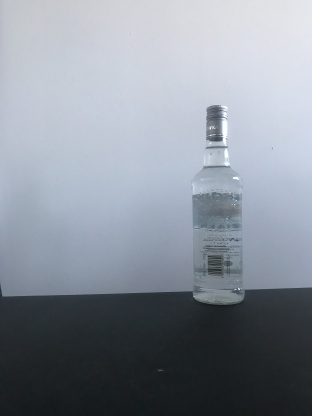nakretka: (204, 103, 229, 142)
